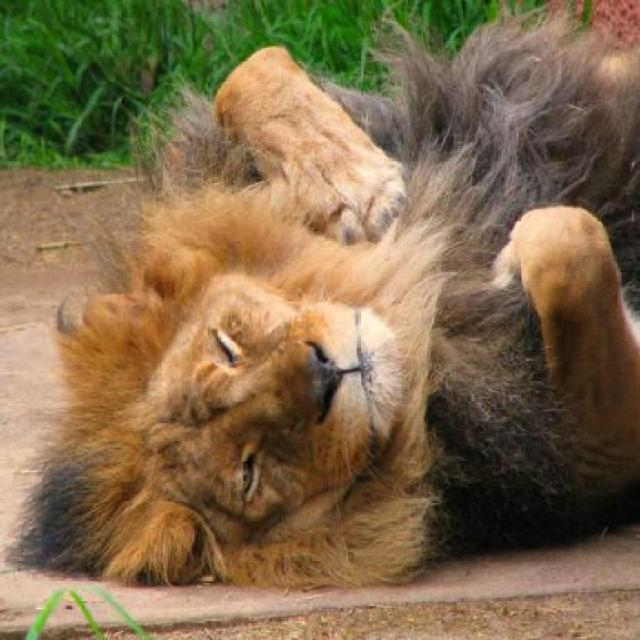Lion: (20, 18, 635, 594)
